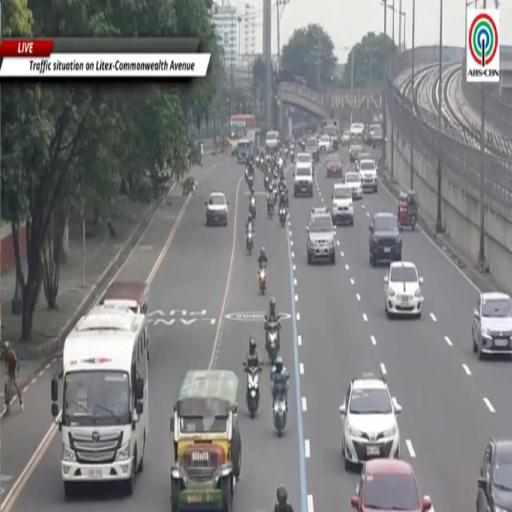bus: (230, 115, 255, 148)
car: (340, 374, 401, 470), (351, 459, 432, 511), (472, 292, 511, 359), (477, 439, 511, 511), (385, 262, 423, 317), (369, 213, 402, 266), (306, 207, 335, 264), (331, 184, 353, 226), (206, 191, 228, 226), (294, 163, 313, 197), (359, 159, 378, 193), (345, 172, 362, 199), (304, 137, 319, 162), (327, 154, 342, 178), (370, 125, 384, 148), (349, 139, 363, 162), (295, 153, 313, 170), (265, 131, 279, 152), (356, 152, 371, 171), (350, 122, 364, 138), (319, 135, 331, 152), (342, 130, 350, 146)
jeepney: (171, 371, 241, 511)
motorcycle: (244, 362, 262, 419), (273, 391, 287, 437), (265, 322, 280, 364), (258, 265, 267, 294), (266, 194, 274, 219), (246, 231, 253, 255), (279, 207, 287, 227), (247, 174, 254, 193), (249, 197, 255, 219), (264, 174, 270, 192), (255, 157, 260, 168), (284, 148, 288, 161), (291, 151, 294, 163)
tricycle: (398, 191, 417, 230)
truck: (51, 306, 148, 499)
